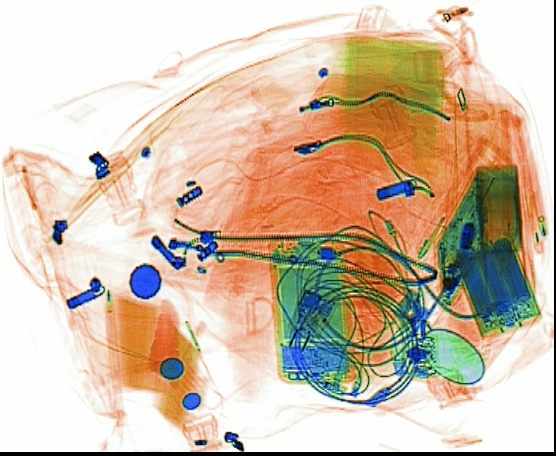powerbank: (453, 230, 541, 339)
